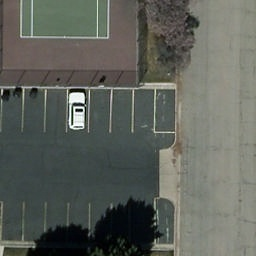car: (69, 93, 86, 130)
